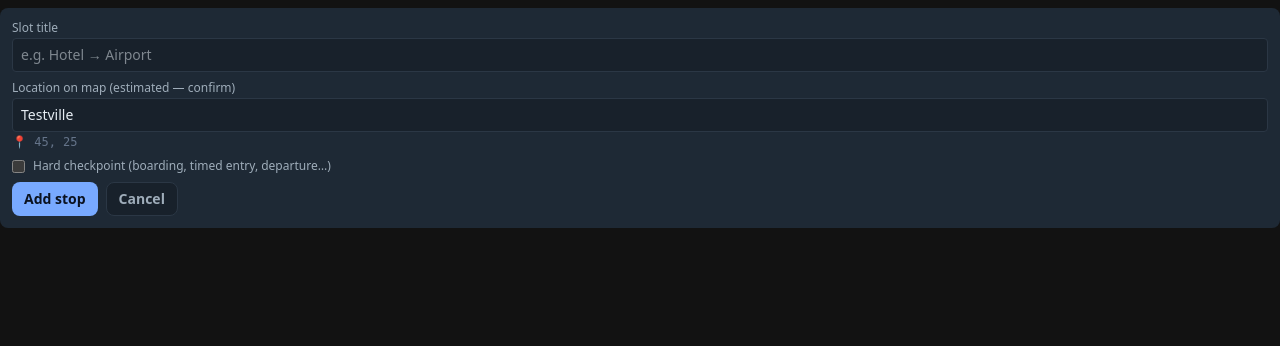
Test: SlotForm › renders the parent's opensMin > timeMin rejection (rule lives in validateTrip)
Type "Museum" into the field labelled "Slot title" at (640, 55), box [12,38,1268,72]
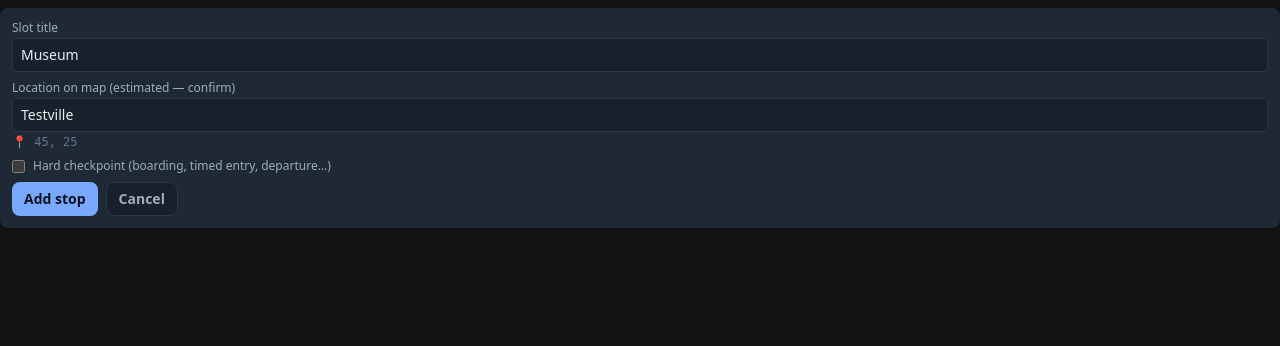
Click the checkbox labelled "Hard checkpoint (boarding, timed entry, departure…)" at (18, 166), box [12,160,25,172]
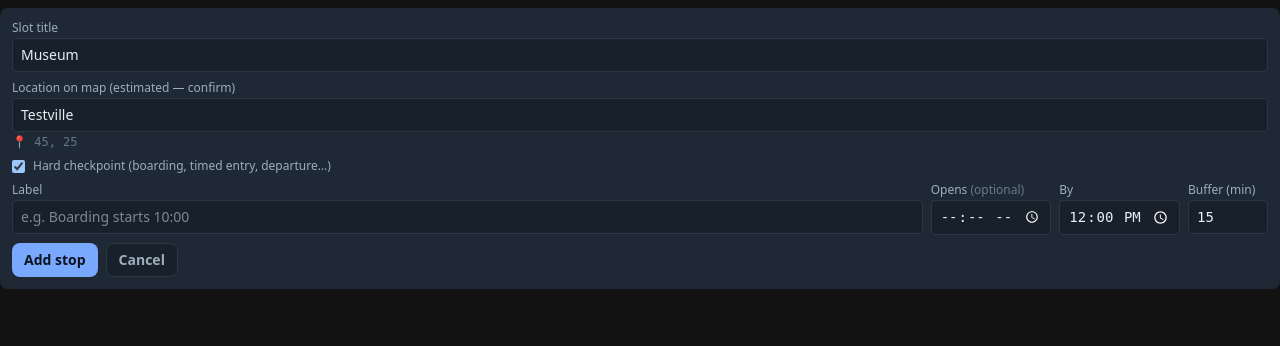
Type "Timed entry" into the field labelled "Label" at (467, 217), box [12,200,923,234]
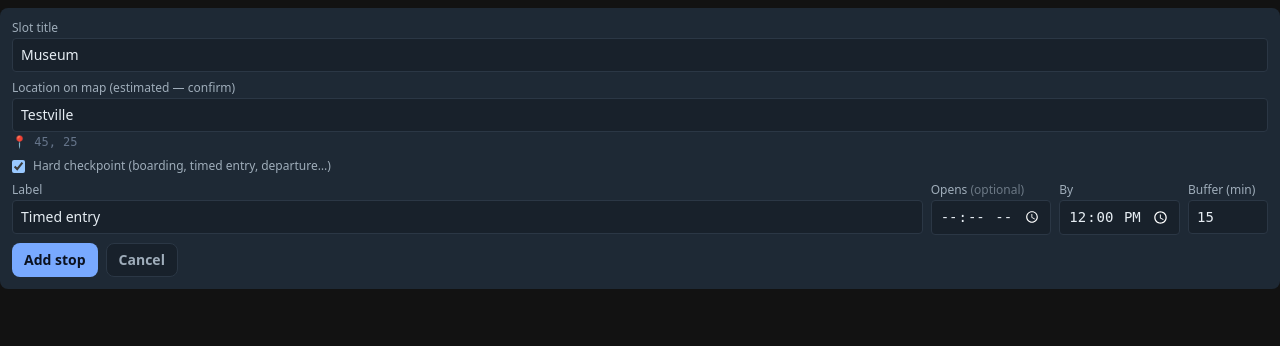
Type "18:00" into the time field labelled "Opens (optional)" at (991, 217), box [931,200,1051,235]
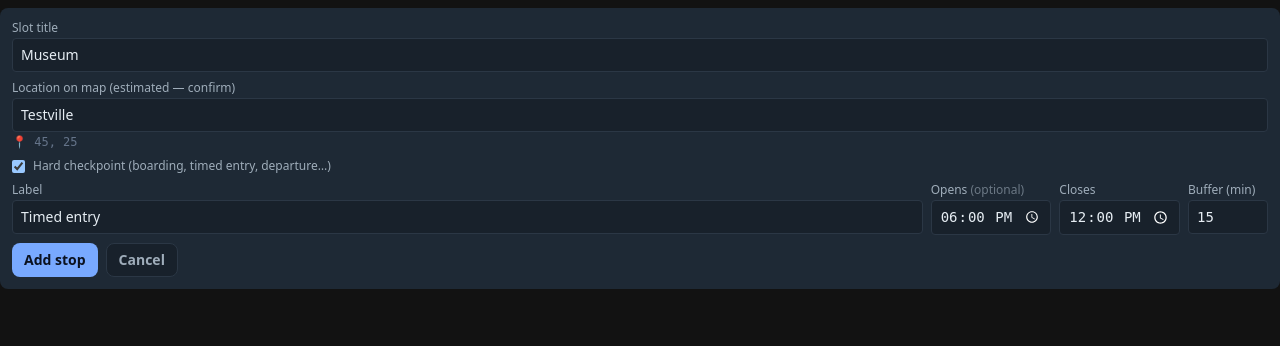
Replace the text in the time field labelled "Closes" with "17:00" at (1120, 217), box [1059,200,1180,235]
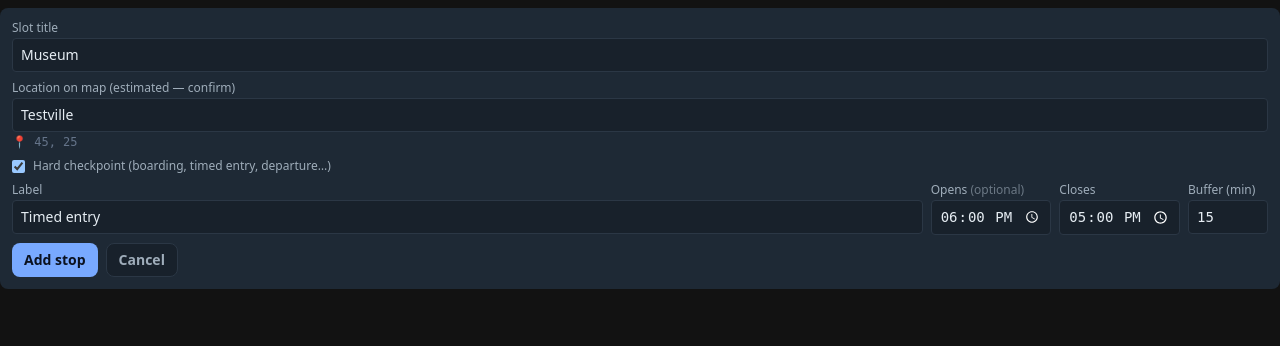
Click the button "Add stop" at (55, 260), box [12,243,98,277]
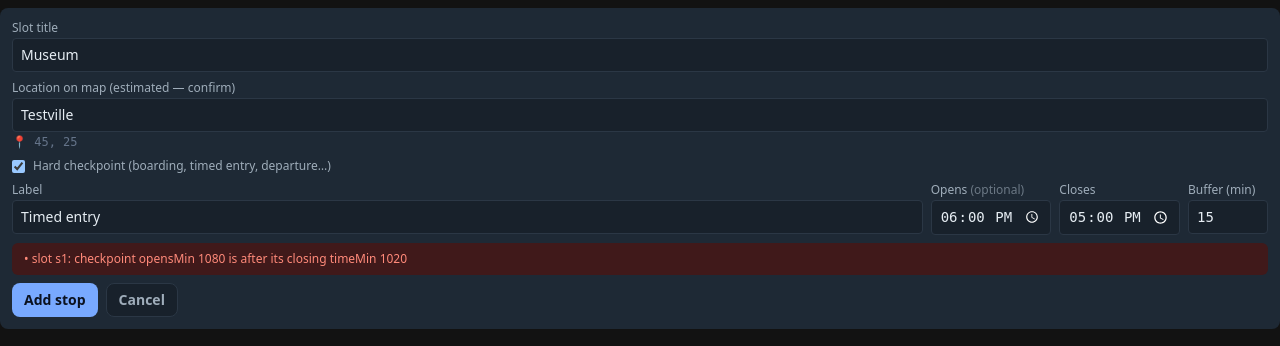
Check: the text "opensMin 1080 is after its closing timeMin" is shown, box [32,250,407,267]
